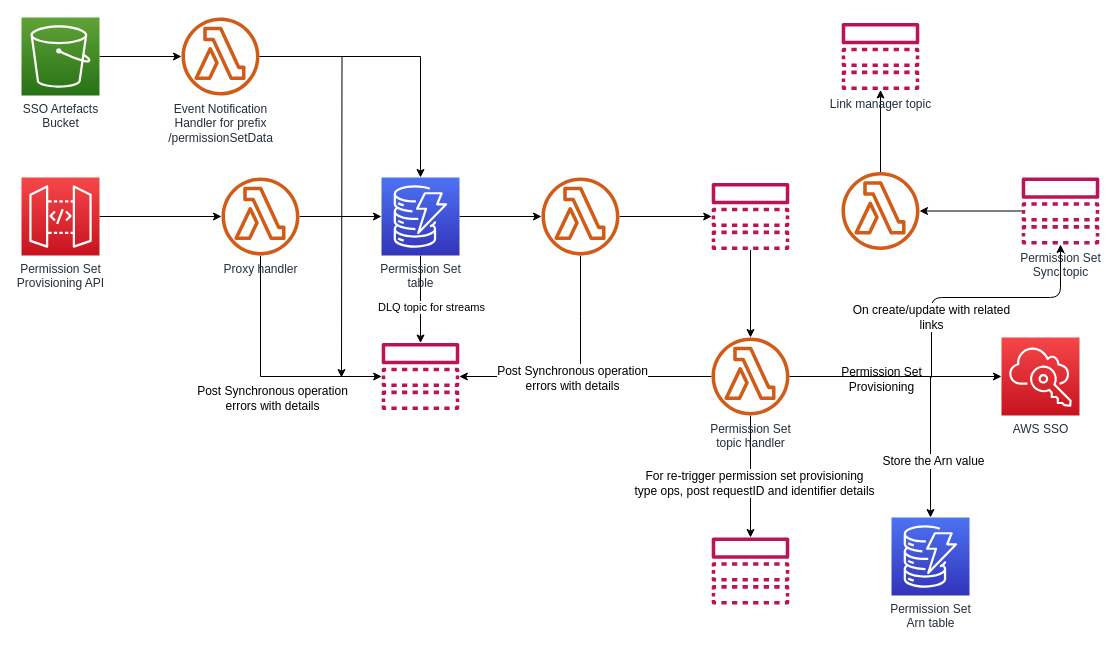
This 1118x649 diagram has some shape labels left out. The shapes that lost their labels are listed below. From the top down, each one's box as (x1, y1, x2, y2) in pixels, then its label:
(541, 177, 619, 255): Permission Set Stream handler
(711, 182, 789, 250): Permission Set topic
(841, 172, 919, 250): Permission Set Sync Handler
(381, 342, 459, 410): Error Topic
(711, 537, 789, 604): Waiter topic
